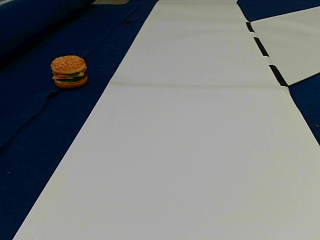burger: (50, 53, 88, 87)
